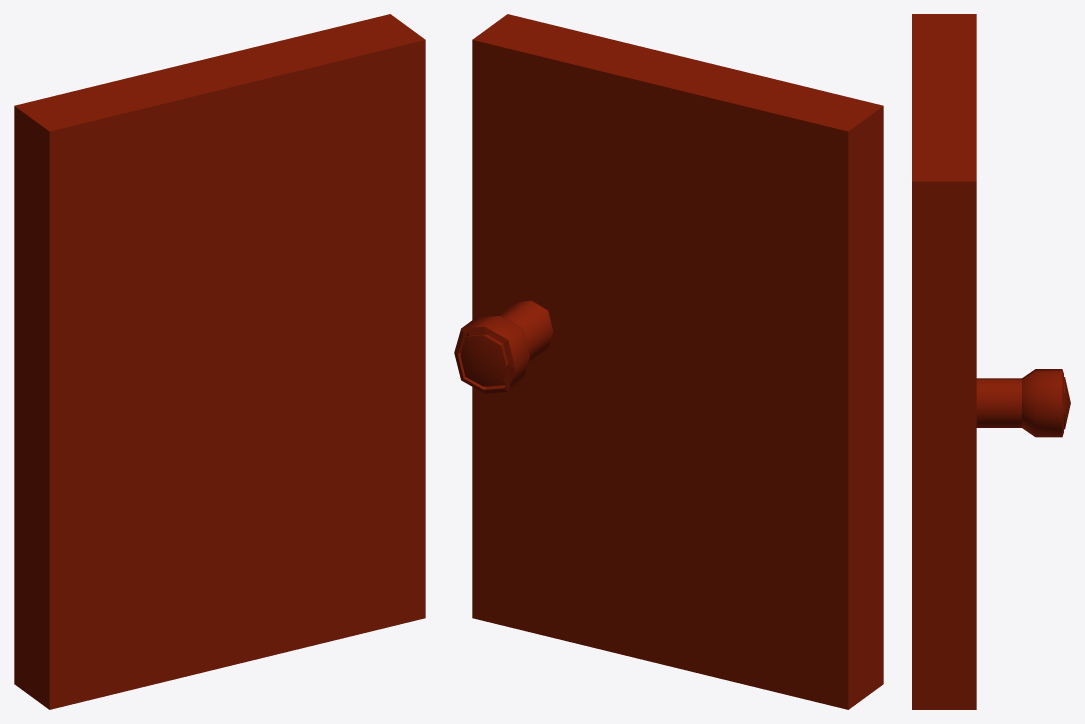
Rendered from myhome@in_open_s.FBX.
The picture shows the model from 3 angles, left to right: view 1: azimuth 30°, elevation 25°; view 2: azimuth 150°, elevation 25°; view 3: azimuth 270°, elevation 25°; orthographic projection. The views are drawn at different scales.
Parts seen in each view (by area): view 1: Object001; view 2: Object001; view 3: Object001.
Part boxes in pixels (bbox=[...]): Object001: bbox=[14, 14, 425, 709]; Object001: bbox=[454, 14, 883, 709]; Object001: bbox=[912, 14, 1070, 709].
Bounding box in the file's own units: 13.69 × 20.11 × 5.48.
